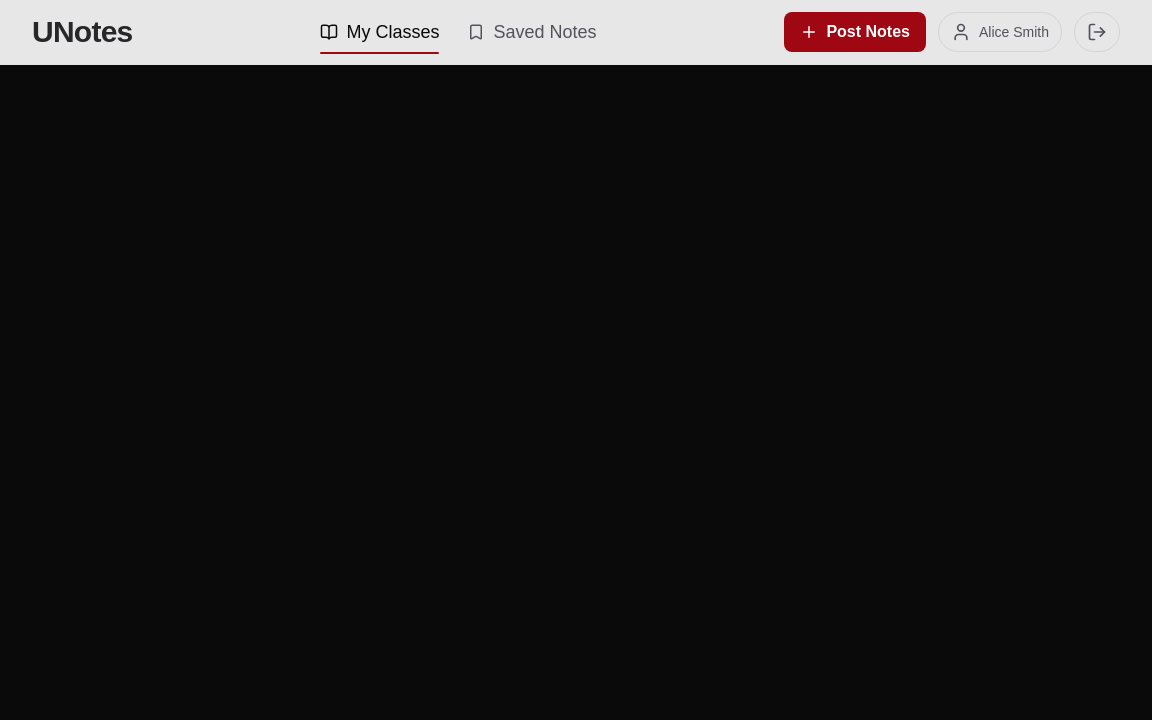
Navbar — authenticated regular user › opens Post modal when Post Notes is clicked
Expected: the text "Post Notes" is shown, [826, 20, 910, 44]
Click the button "Post Notes" at (855, 32), box [784, 12, 926, 52]
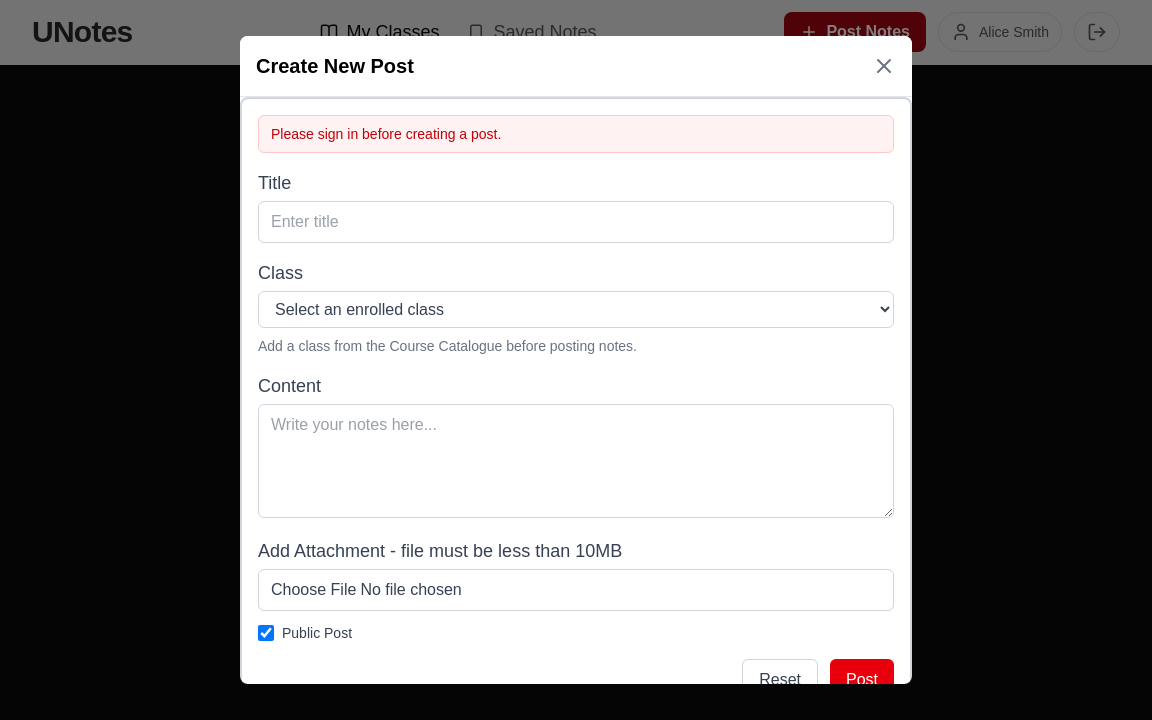
Expected: the heading "Create New Post" is shown, [256, 52, 414, 80]
